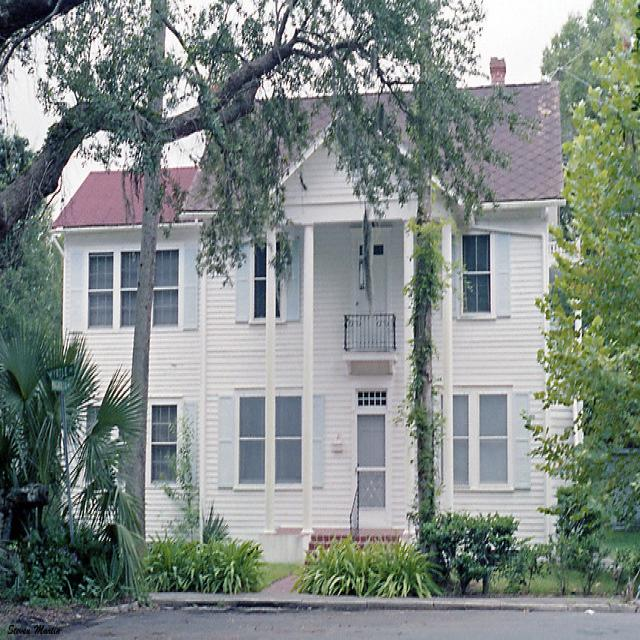Normal_building: (49, 68, 584, 563)
